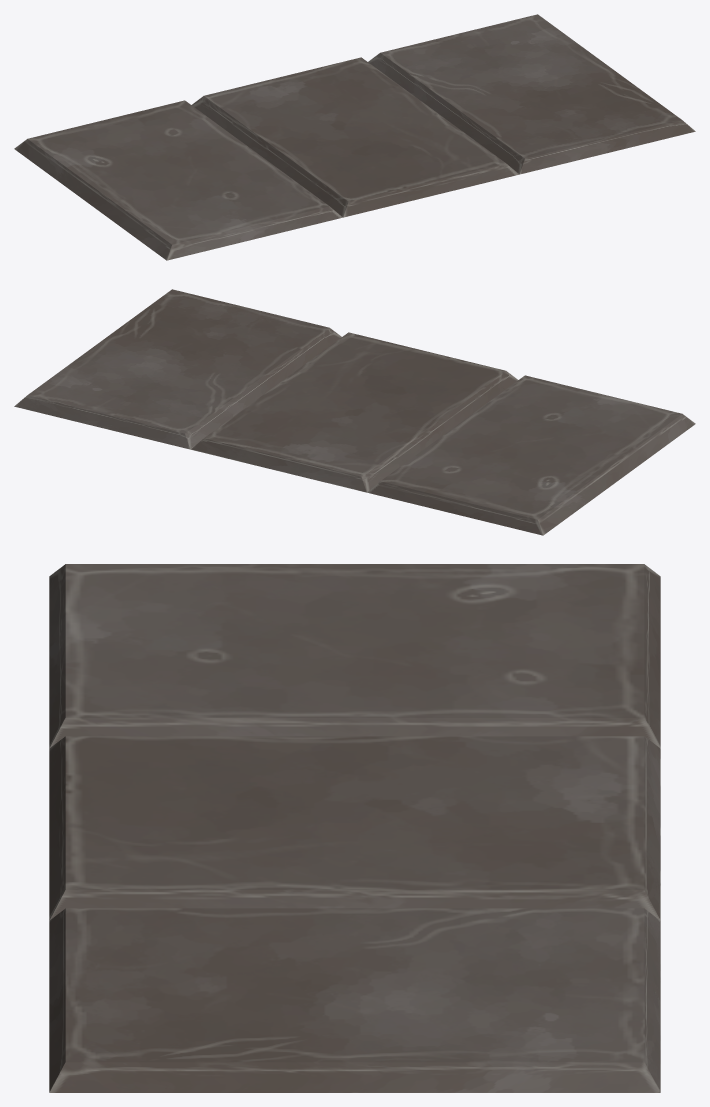
The picture shows the model from 3 angles, top to bottom: view 1: azimuth 30°, elevation 25°; view 2: azimuth 150°, elevation 25°; view 3: azimuth 270°, elevation 25°; orthographic projection. The views are drawn at different scales.
Visible parts, largest first — view 1: pCube24558, pCube24556, pCube24557; view 2: pCube24558, pCube24556, pCube24557; view 3: pCube24556, pCube24558, pCube24557.
Part boxes in pixels (x1,y1,x2,y2): pCube24558: [14, 100, 342, 260]; pCube24556: [368, 14, 695, 174]; pCube24557: [192, 57, 518, 217]; pCube24558: [367, 375, 695, 535]; pCube24556: [14, 289, 341, 449]; pCube24557: [191, 332, 517, 492]; pCube24556: [49, 908, 660, 1092]; pCube24558: [49, 564, 660, 748]; pCube24557: [49, 736, 660, 920].
Bounding box in the file's own units: 1.2 × 0.0232 × 0.6.
